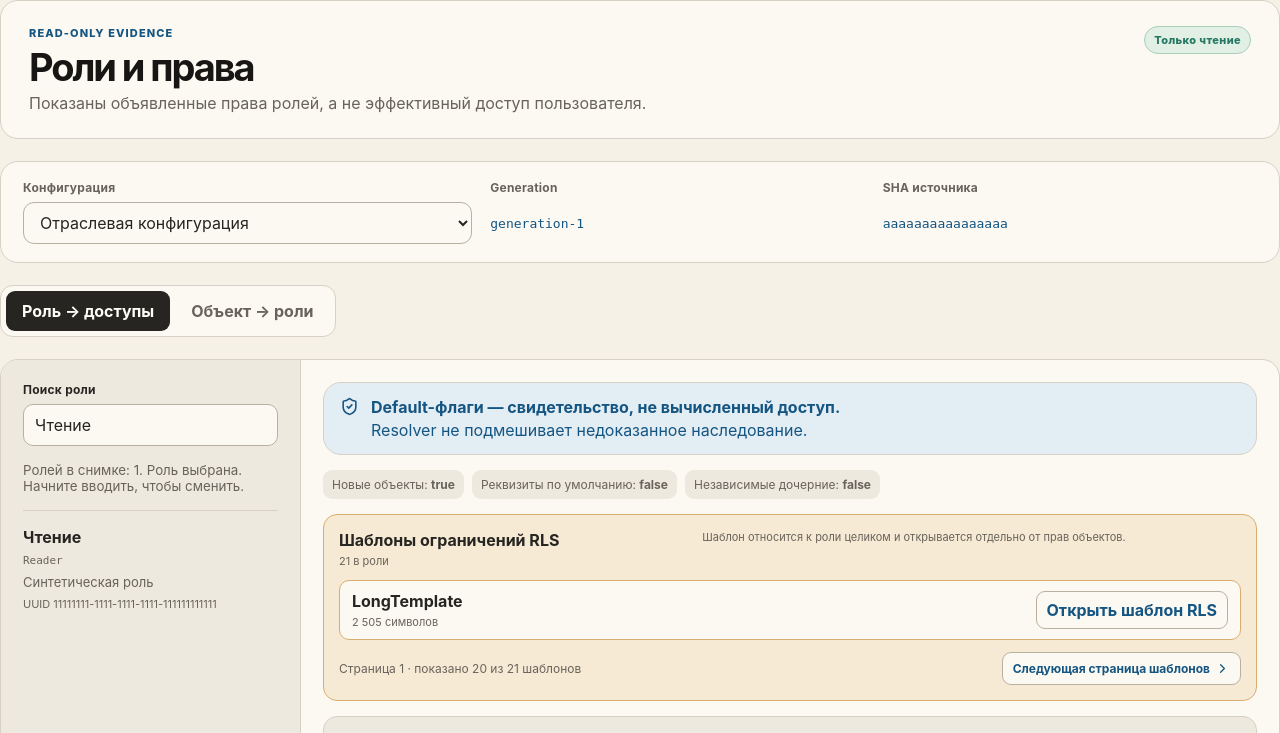
Test: листает шаблоны роли отдельным серверным курсором
Expected: the text "LongTemplate" is shown, 352,591 -> 463,611
Click the button "Следующая страница шаблонов": (1121, 669) 1002,652 -> 1241,685
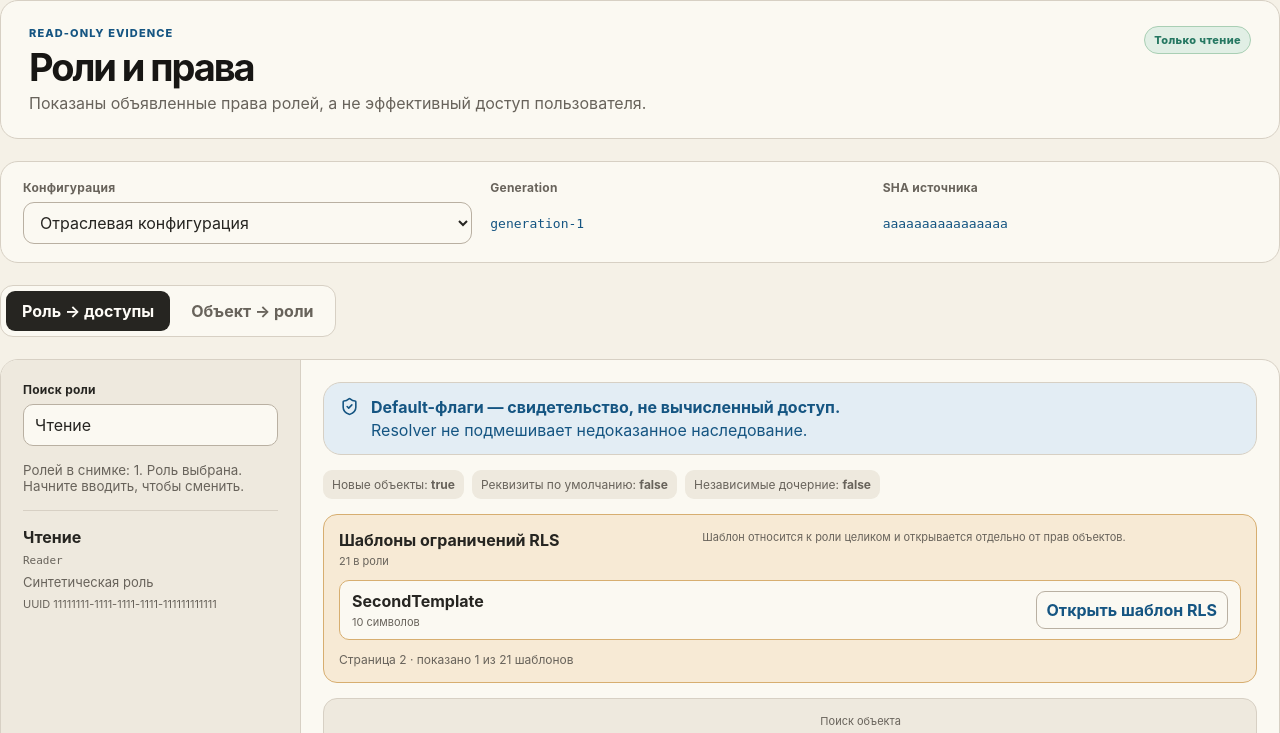
Now the text "SecondTemplate" is shown, box 352,591 -> 484,611
Now the text "Страница 2 · показано 1 из 21 шаблонов" is shown, box 339,652 -> 574,667
